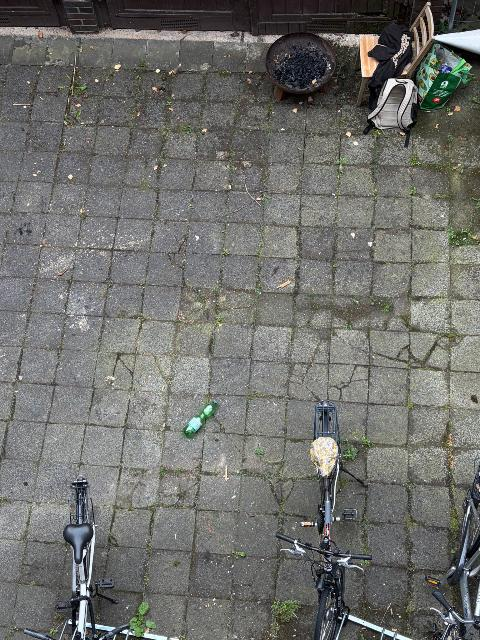plastic_bottle: (184, 400, 217, 437)
